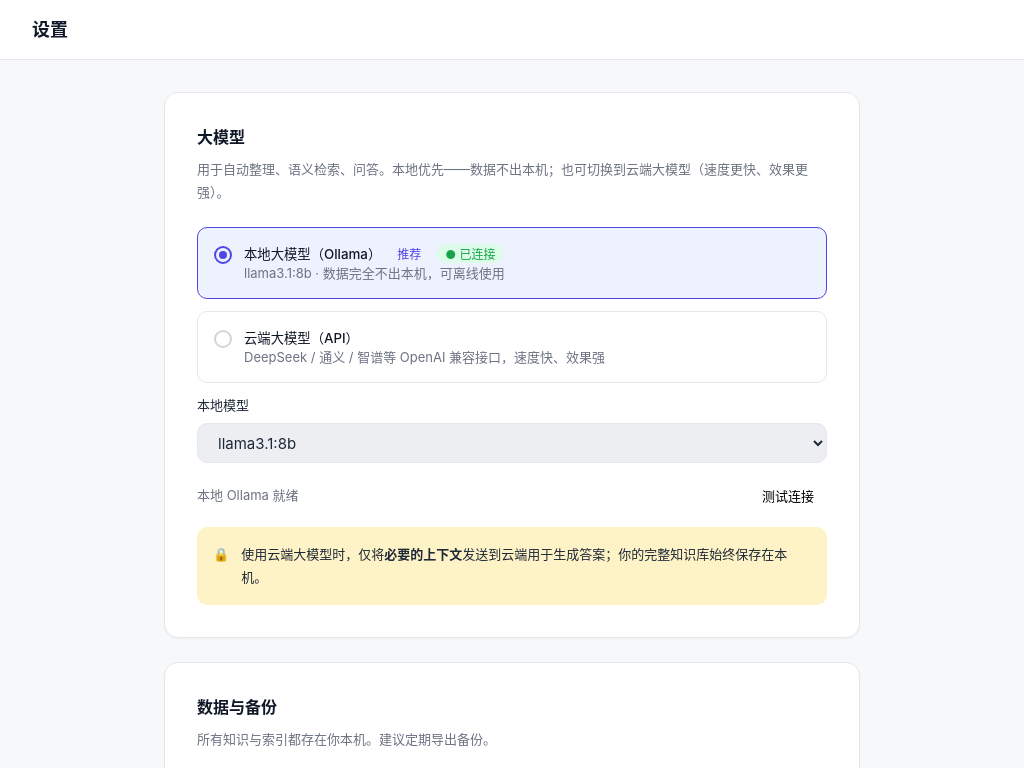
Test case: C-SET-01 / C-SET-03 模型切换与 Key 脱敏 › 选 Google AI Studio 预设自动回填 baseUrl 与模型名（issue #7）
Check: the dropdown labelled "本地模型" shows "llama3.1:8b", box top-left (197, 423), bottom-right (827, 463)
Click the button with test id "opt-cloud" at (512, 347), box top-left (197, 311), bottom-right (827, 383)
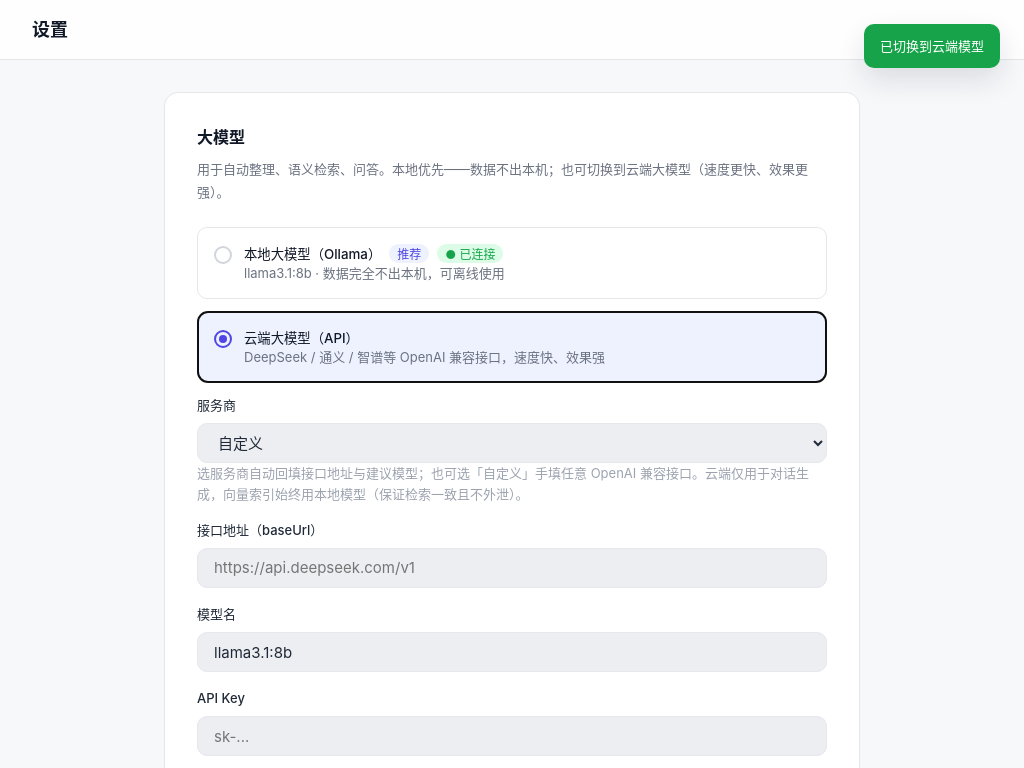
Check: the password field labelled "API Key" is shown, box top-left (197, 716), bottom-right (827, 756)
Select "Google AI Studio（Gemini）" in the dropdown named "云端服务商" at (512, 443), box top-left (197, 423), bottom-right (827, 463)
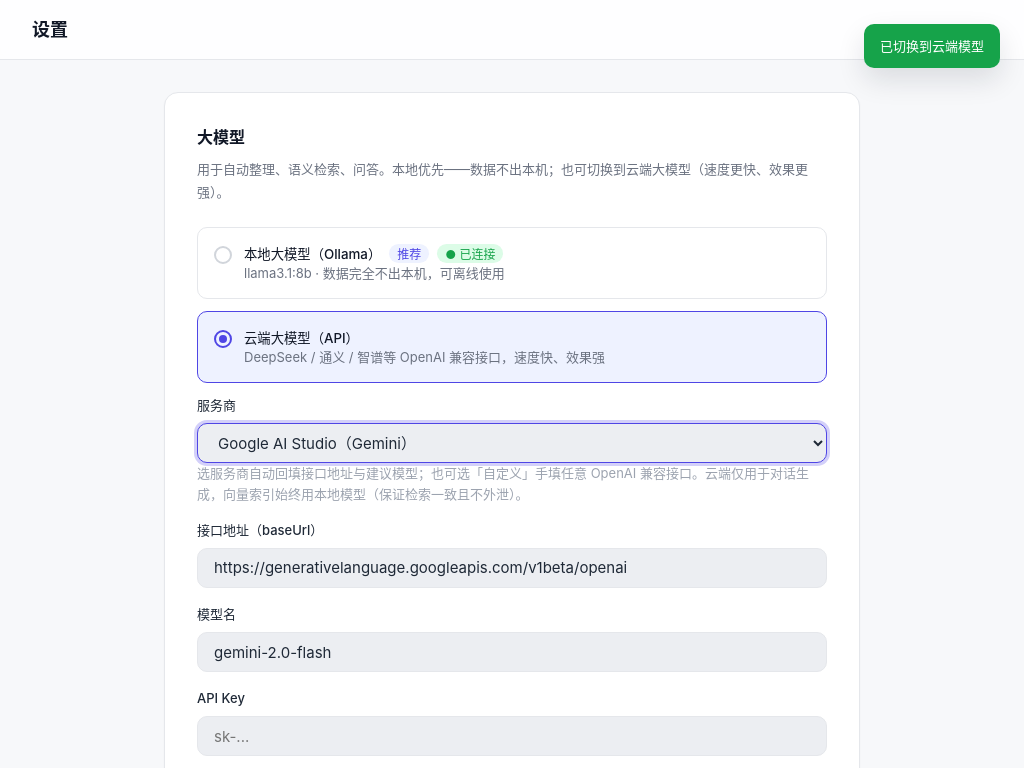
Check: the field labelled "接口地址（baseUrl）" holds "https://generativelanguage.googleapis.com/v1beta/openai", box top-left (197, 548), bottom-right (827, 588)
Check: the field labelled "模型名" holds "gemini-2.0-flash", box top-left (197, 632), bottom-right (827, 672)
